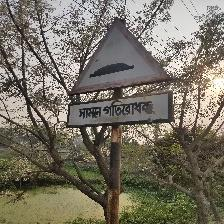Speed-breaker: (66, 17, 176, 129)
